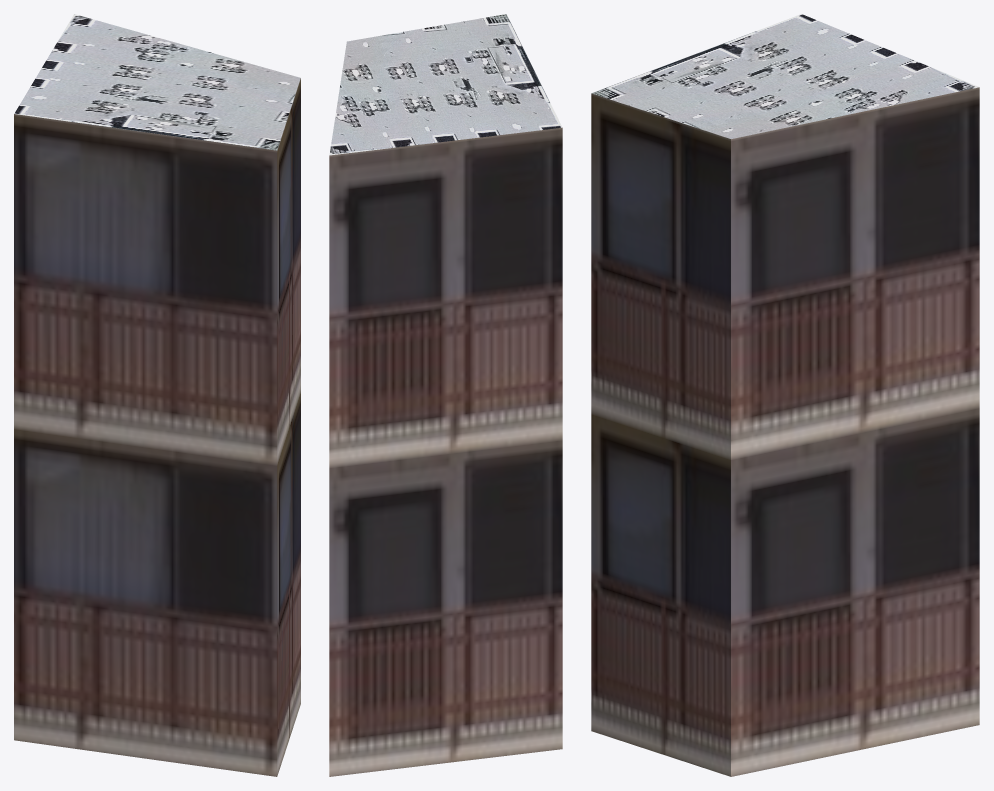
The model's file is ResTex__1311.fbx.
3 views of the same model, side by side, from view 1: azimuth 30°, elevation 25°; view 2: azimuth 150°, elevation 25°; view 3: azimuth 270°, elevation 25° (orthographic). The views are drawn at different scales.
Visible parts, largest first — view 1: CityEngineMaterial_6_m, CityEngineMaterial_8_m; view 2: CityEngineMaterial_6_m, CityEngineMaterial_8_m; view 3: CityEngineMaterial_6_m, CityEngineMaterial_8_m.
Boxes of the visible parts, box(x1,y1,x2,y2) form: CityEngineMaterial_6_m: box(14, 78, 300, 776); CityEngineMaterial_8_m: box(14, 14, 300, 150); CityEngineMaterial_6_m: box(329, 127, 562, 776); CityEngineMaterial_8_m: box(329, 14, 562, 155); CityEngineMaterial_6_m: box(591, 87, 979, 776); CityEngineMaterial_8_m: box(591, 14, 978, 138).
Bounding box in the file's own units: 2.53 × 6 × 3.31.
Materials: 2 (2 with a texture image).
